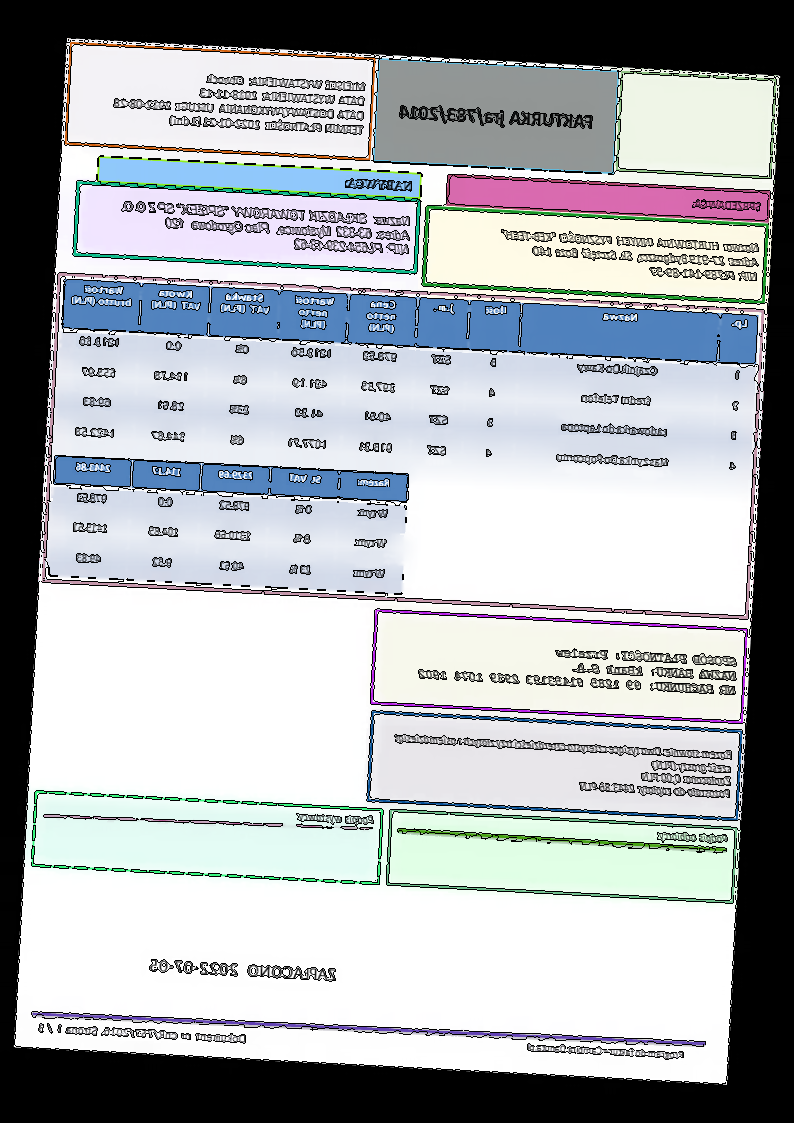Table: (55, 276, 761, 488), (49, 453, 410, 595)
TextBox: (390, 729, 735, 802), (417, 635, 738, 700), (119, 196, 414, 261), (109, 65, 368, 139), (498, 226, 762, 287), (396, 101, 597, 133), (149, 955, 340, 984), (36, 1020, 248, 1046), (524, 1038, 687, 1062), (295, 808, 378, 829), (691, 194, 766, 215), (655, 826, 730, 847), (343, 174, 416, 194)
